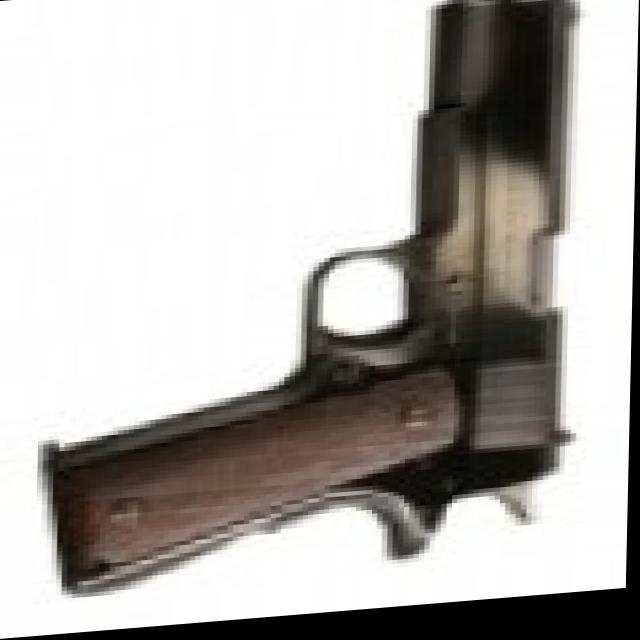handgun: (53, 0, 607, 608)
